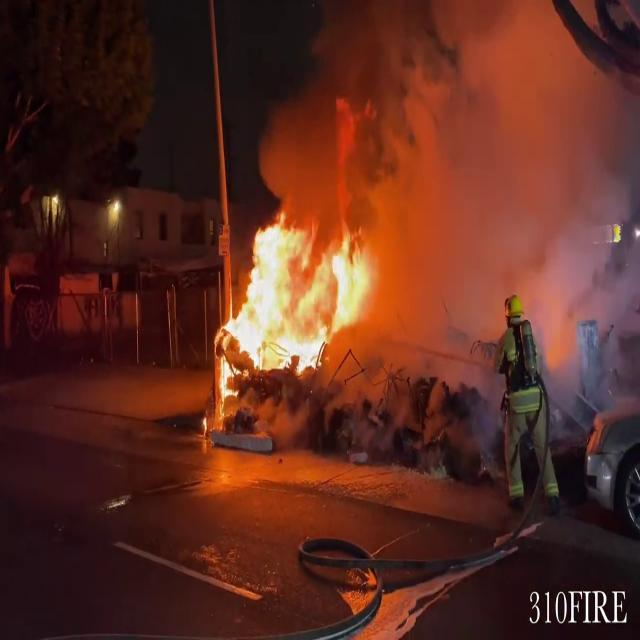Fire: (208, 192, 382, 418)
Smoke: (264, 1, 640, 367)
